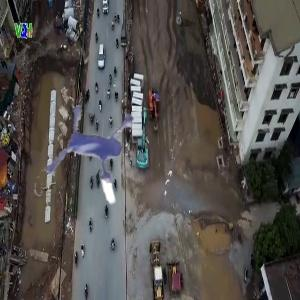drone: (23, 89, 166, 232)
